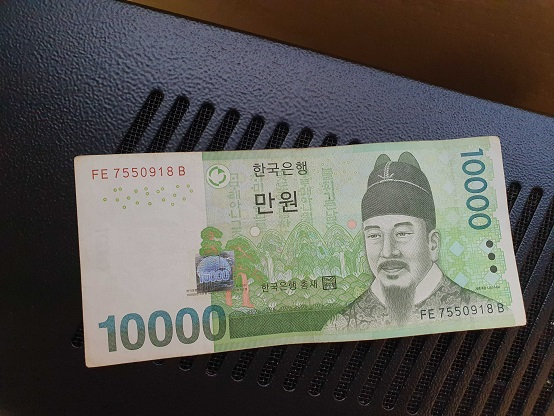10000won: (72, 133, 532, 370)
